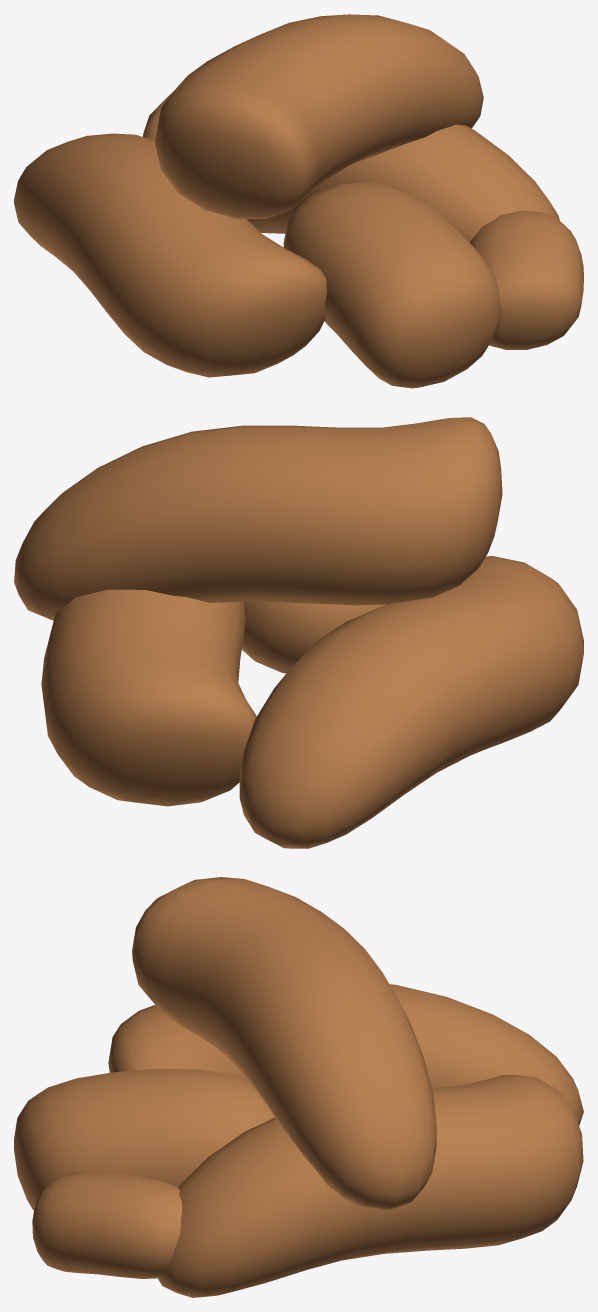
The model's file is POOP.fbx.
3 views of the same model, one above another, from view 1: azimuth 30°, elevation 25°; view 2: azimuth 150°, elevation 25°; view 3: azimuth 270°, elevation 25° (orthographic). The views are drawn at different scales.
Visible parts, largest first — view 1: Cube.003; view 2: Cube.003; view 3: Cube.003.
Boxes of the visible parts, x1,y1,x2,y2 form: Cube.003: (14,14,583,388); Cube.003: (14,417,583,848); Cube.003: (14,877,583,1297).
Size of the model in its own units: 503 by 301 by 558.
